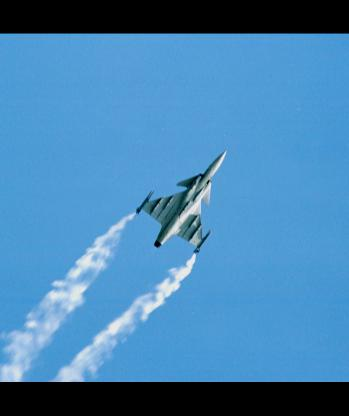JAS39: (135, 149, 225, 254)
